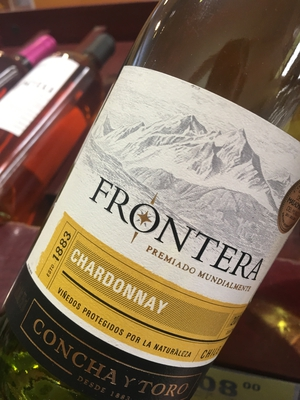frontera chardonnay: (28, 42, 295, 400)
